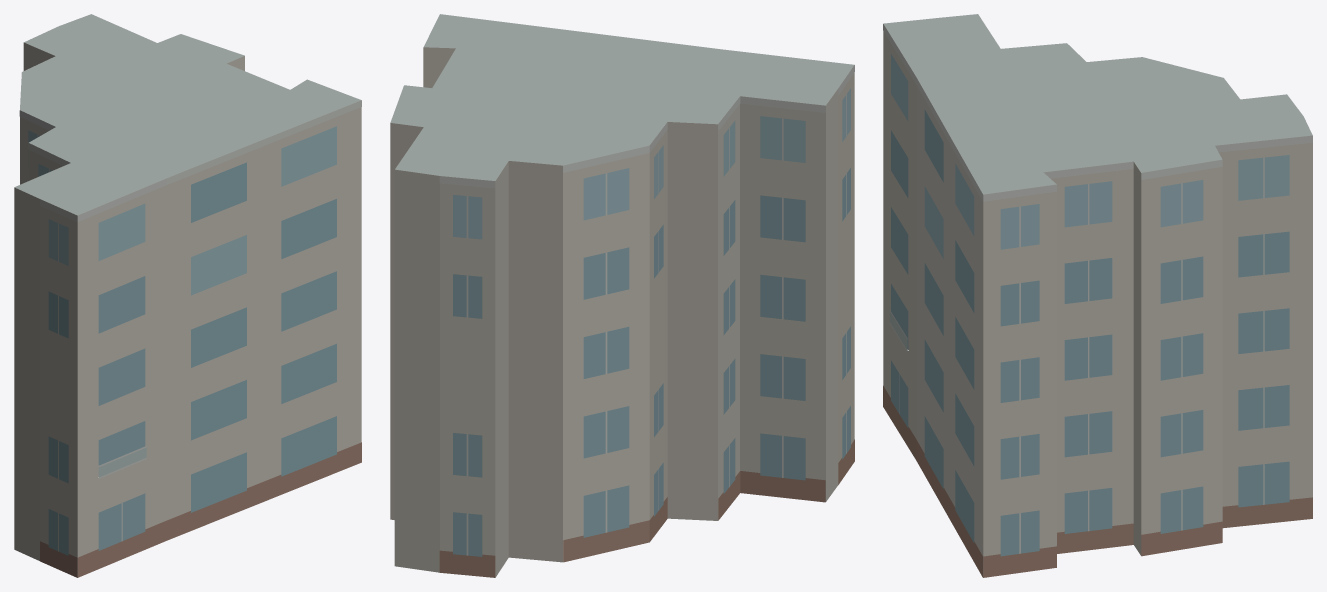
File: survey-upis-32724004.glb
The picture shows the model from 3 angles, left to right: view 1: azimuth 30°, elevation 25°; view 2: azimuth 150°, elevation 25°; view 3: azimuth 270°, elevation 25°; orthographic projection. The views are drawn at different scales.
Parts seen in each view (by area): view 1: survey-upis-32724004.tmp; view 2: survey-upis-32724004.tmp; view 3: survey-upis-32724004.tmp.
Part boxes in pixels (x1,y1,x2,y2): survey-upis-32724004.tmp: (14,14,361,577); survey-upis-32724004.tmp: (390,14,854,577); survey-upis-32724004.tmp: (883,14,1312,577).
Size of the model in its own units: 13.35 by 13.2 by 13.42.
